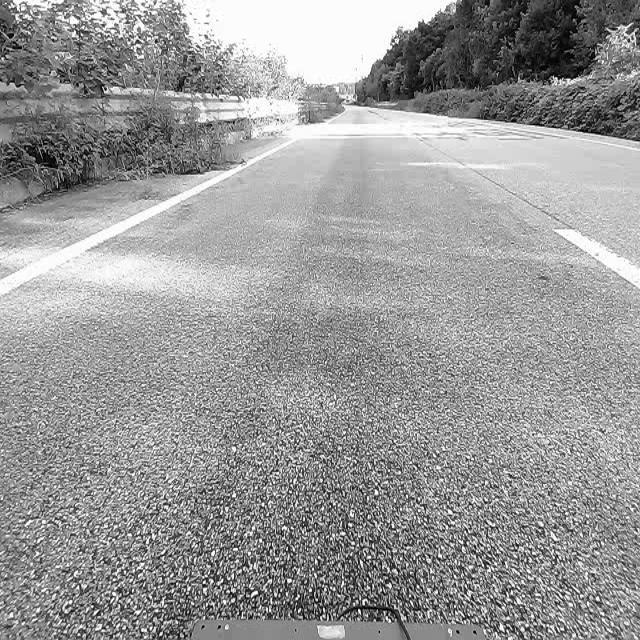Lane: (0, 129, 303, 300), (0, 140, 295, 298), (555, 225, 640, 287), (556, 229, 639, 289)
